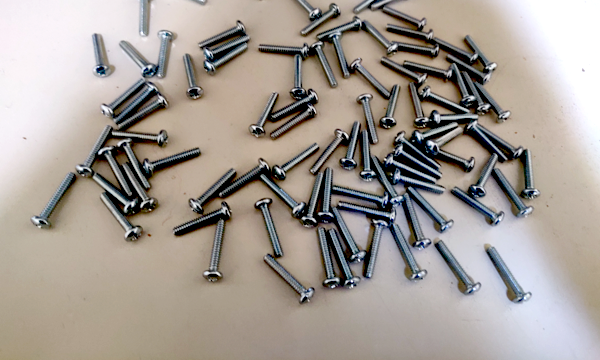longscrew: (446, 176, 504, 224), (432, 241, 482, 295), (30, 173, 76, 229), (485, 248, 531, 304), (258, 259, 315, 303), (191, 167, 237, 214), (395, 125, 443, 170), (88, 173, 139, 215), (386, 225, 424, 281), (330, 206, 366, 265), (404, 186, 450, 232), (324, 228, 358, 290), (494, 162, 531, 217), (256, 175, 305, 216), (100, 194, 143, 240), (76, 124, 114, 176), (221, 156, 269, 197), (477, 118, 525, 159), (173, 202, 232, 235), (384, 151, 441, 185), (276, 136, 320, 180), (396, 194, 431, 247), (390, 144, 443, 179), (467, 121, 510, 164), (346, 60, 393, 99), (312, 229, 342, 290), (253, 200, 284, 259), (420, 81, 471, 116), (117, 140, 154, 188), (98, 146, 135, 194), (122, 161, 159, 209), (425, 136, 474, 172), (100, 78, 144, 118), (114, 84, 158, 124), (368, 155, 403, 205), (122, 90, 165, 130), (390, 165, 449, 194), (473, 143, 502, 201), (308, 130, 348, 172), (476, 78, 514, 122), (271, 105, 317, 141), (330, 180, 390, 207), (203, 215, 226, 283), (338, 199, 398, 225), (248, 92, 279, 140), (445, 53, 493, 84), (309, 39, 338, 89), (363, 220, 386, 283), (205, 43, 249, 75), (145, 148, 201, 173), (379, 57, 429, 85), (392, 33, 442, 61), (273, 88, 318, 119), (462, 69, 492, 114), (462, 35, 499, 71), (385, 16, 434, 43), (355, 96, 381, 145), (361, 15, 395, 52), (404, 58, 456, 82), (304, 172, 326, 228), (117, 43, 154, 76), (429, 37, 482, 60), (426, 122, 464, 154), (412, 122, 462, 146), (304, 3, 340, 36), (519, 148, 541, 202), (381, 4, 426, 30), (200, 20, 243, 47), (205, 34, 250, 59), (356, 128, 376, 184), (314, 17, 362, 39), (448, 65, 474, 105), (404, 81, 426, 128), (328, 34, 351, 78), (341, 119, 361, 169), (181, 52, 202, 98), (113, 127, 168, 144), (383, 79, 401, 129), (429, 108, 484, 124), (320, 168, 336, 222), (90, 33, 109, 78), (289, 52, 306, 102), (259, 41, 308, 57), (157, 31, 171, 78), (284, 0, 319, 17), (353, 0, 391, 14), (137, 0, 151, 37), (373, 0, 411, 12), (161, 0, 210, 3)
